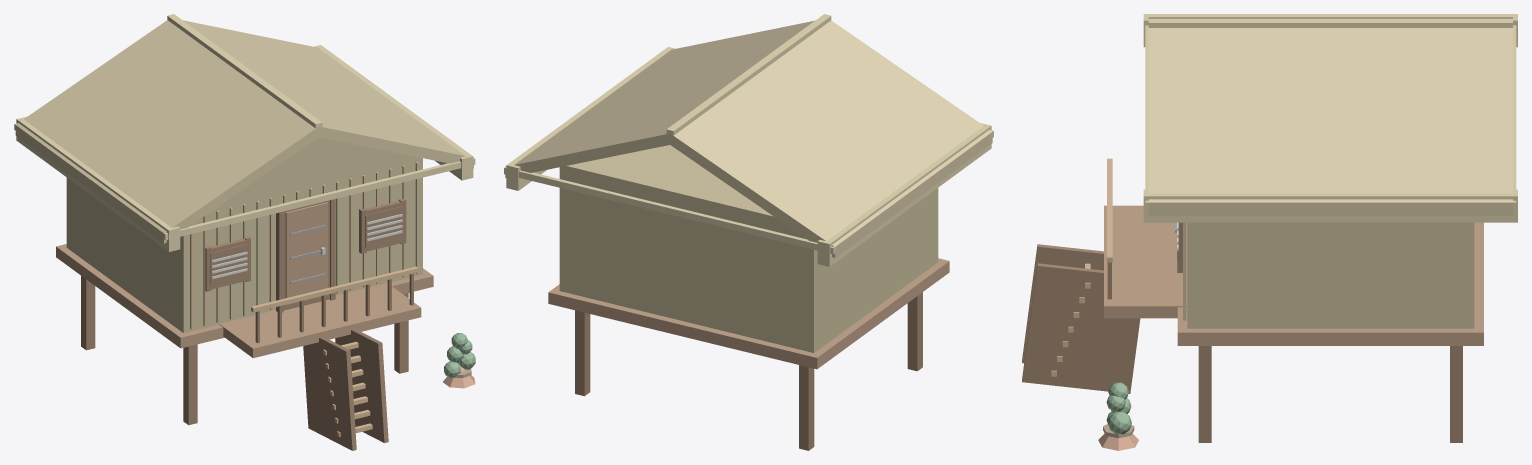
File: 04_Raised_Bahay_Kubo.fbx
3 renders of one model, left to right at view 1: azimuth 30°, elevation 25°; view 2: azimuth 150°, elevation 25°; view 3: azimuth 270°, elevation 25°, orthographic. The views are drawn at different scales.
Parts seen in each view (by area): view 1: H04_026_LayeredNipaRoof_LeftSlope, H04_006_BambooWallBody, H04_027_LayeredNipaRoof_RightSlope, H04_064_KuboPorchDeck, H04_025_NipaGable, H04_074_LadderSide-0.28, H04_038_WoodenRaisedDoor_DoorLeaf, H04_005_RaisedFloor, H04_075_LadderSide0.28, H04_028_LayeredNipaRoof_FrontFascia, H04_030_LayeredNipaRoof_RidgeCap, H04_031_NipaEaveBandL0 (+11 smaller); view 2: H04_006_BambooWallBody, H04_026_LayeredNipaRoof_LeftSlope, H04_027_LayeredNipaRoof_RightSlope, H04_005_RaisedFloor, H04_029_LayeredNipaRoof_BackFascia, H04_030_LayeredNipaRoof_RidgeCap, H04_031_NipaEaveBandL0, H04_002_Stilt_-1.85_1.555, H04_004_Stilt_1.85_1.555, H04_001_Stilt_-1.85_-1.555, H04_032_NipaEaveBandR0, H04_035_NipaEaveBandL2; view 3: H04_027_LayeredNipaRoof_RightSlope, H04_006_BambooWallBody, H04_075_LadderSide0.28, H04_064_KuboPorchDeck, H04_005_RaisedFloor, H04_030_LayeredNipaRoof_RidgeCap, H04_036_NipaEaveBandR2, H04_032_NipaEaveBandR0, H04_074_LadderSide-0.28, H04_003_Stilt_1.85_-1.555, H04_004_Stilt_1.85_1.555, H04_031_NipaEaveBandL0 (+5 smaller).
Part boxes in pixels (x1,y1,x2,y2): H04_026_LayeredNipaRoof_LeftSlope: [15, 20, 318, 243]; H04_006_BambooWallBody: [66, 157, 422, 332]; H04_027_LayeredNipaRoof_RightSlope: [183, 20, 473, 168]; H04_064_KuboPorchDeck: [219, 283, 421, 358]; H04_025_NipaGable: [219, 137, 419, 206]; H04_074_LadderSide-0.28: [303, 336, 356, 450]; H04_038_WoodenRaisedDoor_DoorLeaf: [285, 202, 328, 304]; H04_005_RaisedFloor: [56, 244, 433, 348]; H04_075_LadderSide0.28: [335, 329, 388, 442]; H04_028_LayeredNipaRoof_FrontFascia: [163, 158, 475, 240]; H04_030_LayeredNipaRoof_RidgeCap: [167, 14, 322, 128]; H04_031_NipaEaveBandL0: [16, 116, 180, 237]; H04_006_BambooWallBody: [559, 145, 938, 352]; H04_026_LayeredNipaRoof_LeftSlope: [670, 20, 992, 258]; H04_027_LayeredNipaRoof_RightSlope: [505, 20, 814, 177]; H04_005_RaisedFloor: [548, 258, 949, 369]; H04_029_LayeredNipaRoof_BackFascia: [504, 167, 835, 254]; H04_030_LayeredNipaRoof_RidgeCap: [666, 14, 831, 135]; H04_031_NipaEaveBandL0: [817, 123, 991, 251]; H04_002_Stilt_-1.85_1.555: [799, 365, 814, 450]; H04_004_Stilt_1.85_1.555: [575, 310, 590, 396]; H04_001_Stilt_-1.85_-1.555: [907, 292, 922, 371]; H04_032_NipaEaveBandR0: [506, 47, 675, 175]; H04_035_NipaEaveBandL2: [817, 144, 991, 266]; H04_027_LayeredNipaRoof_RightSlope: [1148, 28, 1512, 215]; H04_006_BambooWallBody: [1187, 222, 1474, 328]; H04_075_LadderSide0.28: [1022, 263, 1140, 393]; H04_064_KuboPorchDeck: [1104, 205, 1187, 318]; H04_005_RaisedFloor: [1177, 222, 1483, 345]; H04_030_LayeredNipaRoof_RidgeCap: [1148, 19, 1512, 27]; H04_036_NipaEaveBandR2: [1143, 214, 1517, 222]; H04_032_NipaEaveBandR0: [1143, 189, 1517, 205]; H04_074_LadderSide-0.28: [1022, 244, 1103, 363]; H04_003_Stilt_1.85_-1.555: [1198, 346, 1211, 442]; H04_004_Stilt_1.85_1.555: [1450, 346, 1462, 442]; H04_031_NipaEaveBandL0: [1143, 14, 1517, 29].
Bounding box in the file's own units: 544 × 495 × 614.
